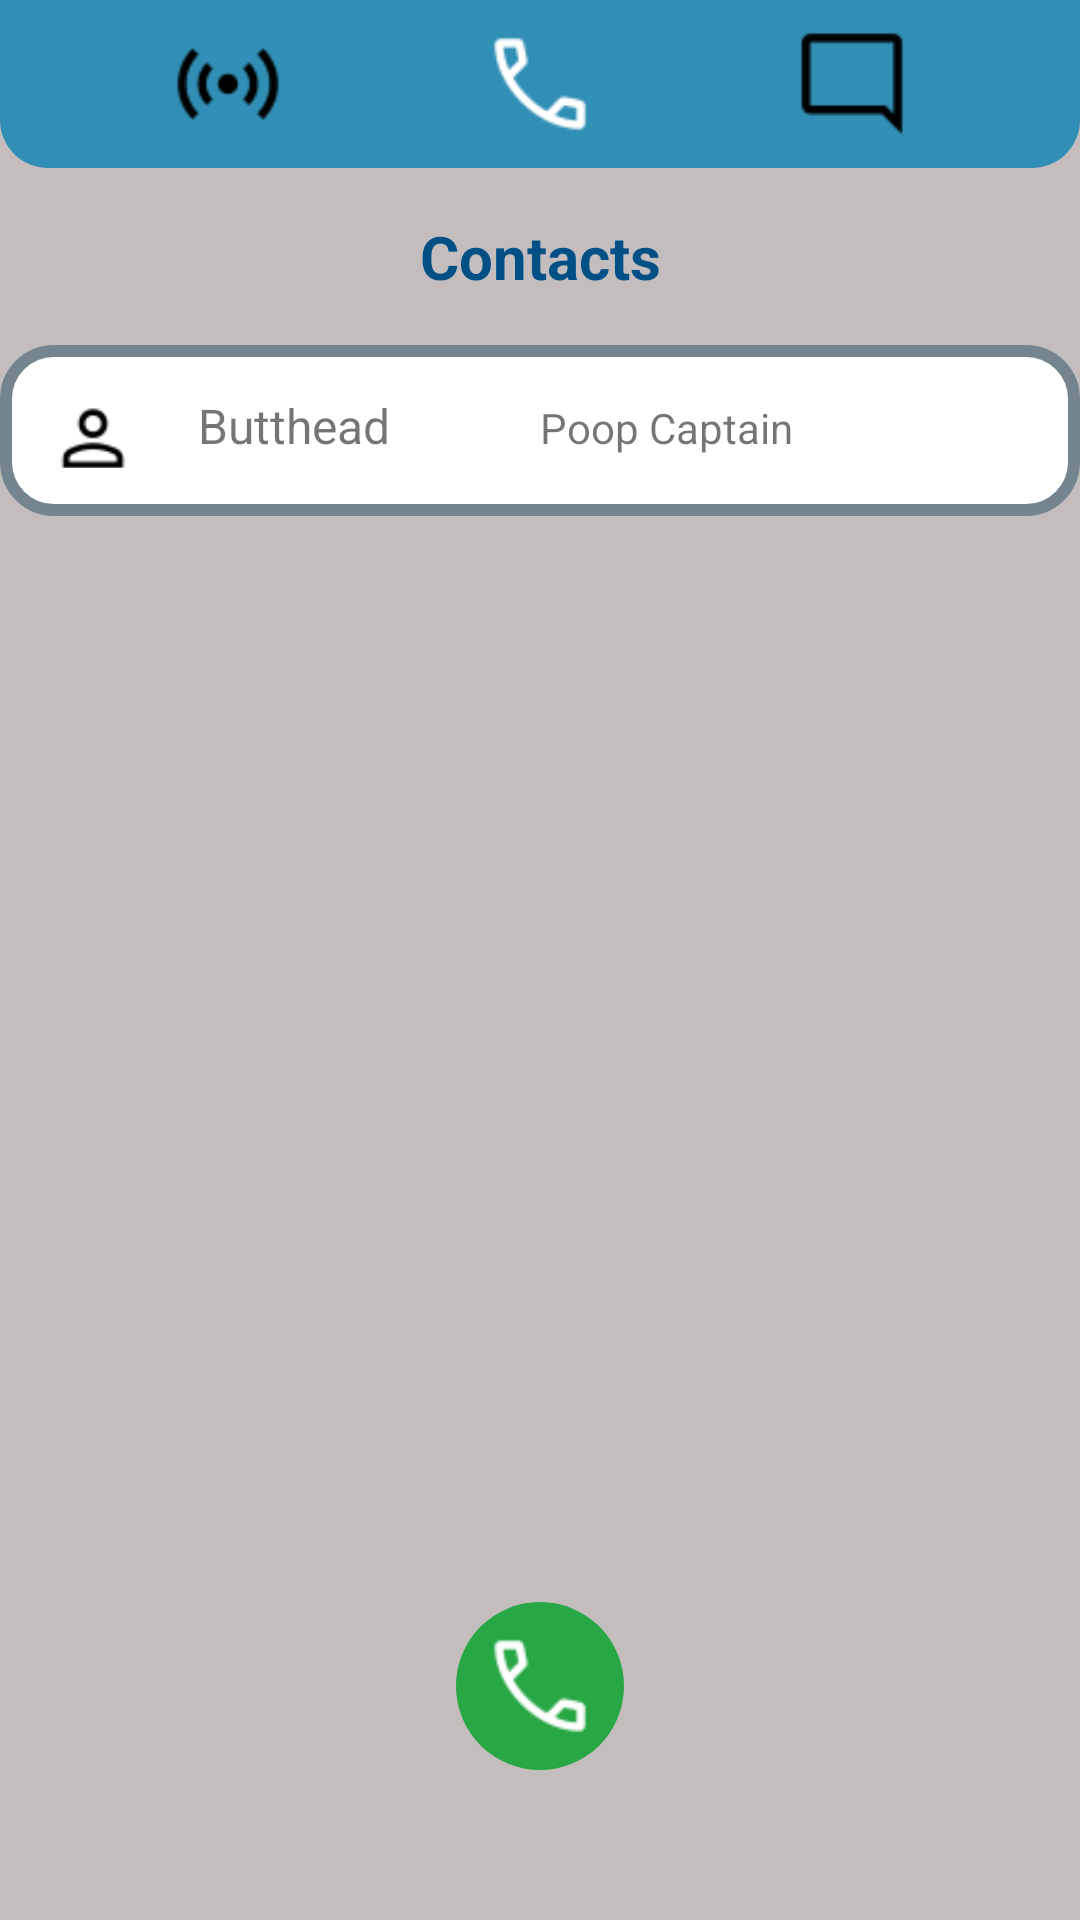

Named icons in this screenshot (1080px×1920px) and their bounding boxes, BBox(x1, y1, x2, y2):
call: BBox(456, 1602, 624, 1770)
message: BBox(801, 33, 903, 134)
phone: BBox(494, 38, 586, 130)
signal: BBox(177, 48, 279, 120)
User: BBox(61, 408, 125, 468)
